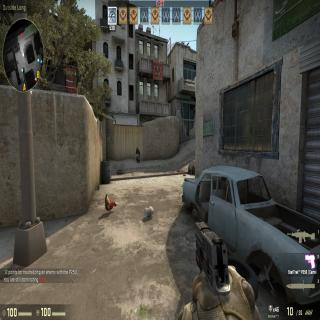T-Body: (134, 147, 140, 163)
T-Head: (136, 147, 138, 150)
